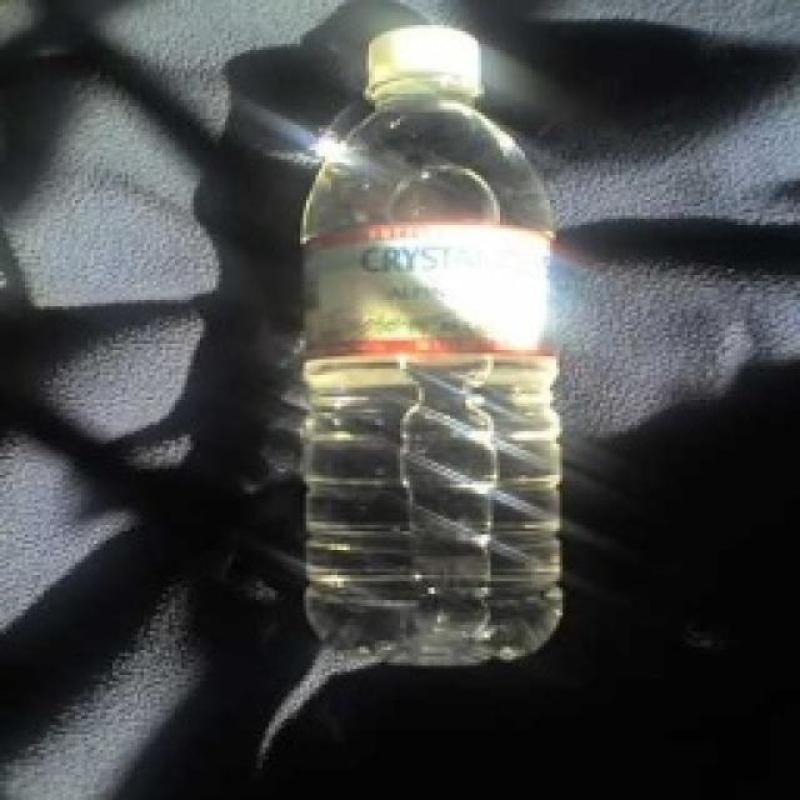botella: (296, 26, 565, 664)
